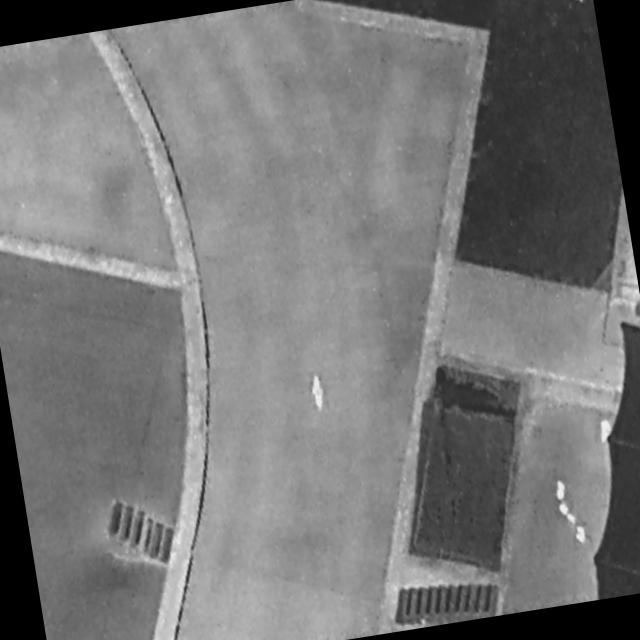person: (309, 371, 328, 416), (595, 414, 619, 449)
